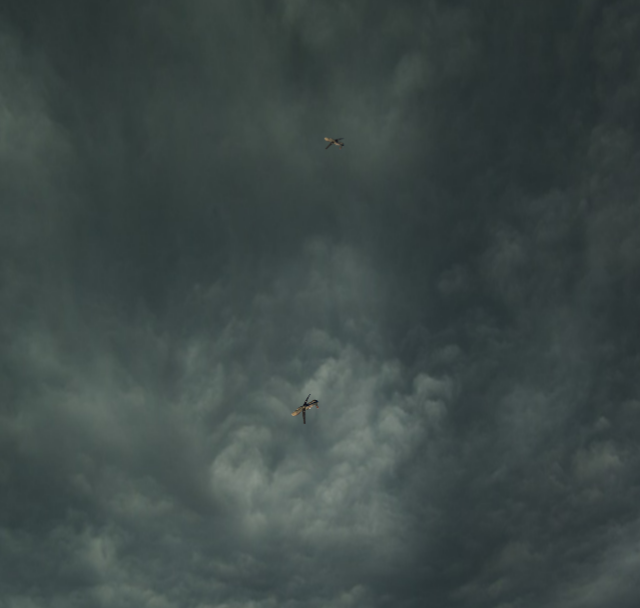military drone: (290, 393, 319, 424), (324, 136, 344, 149)
